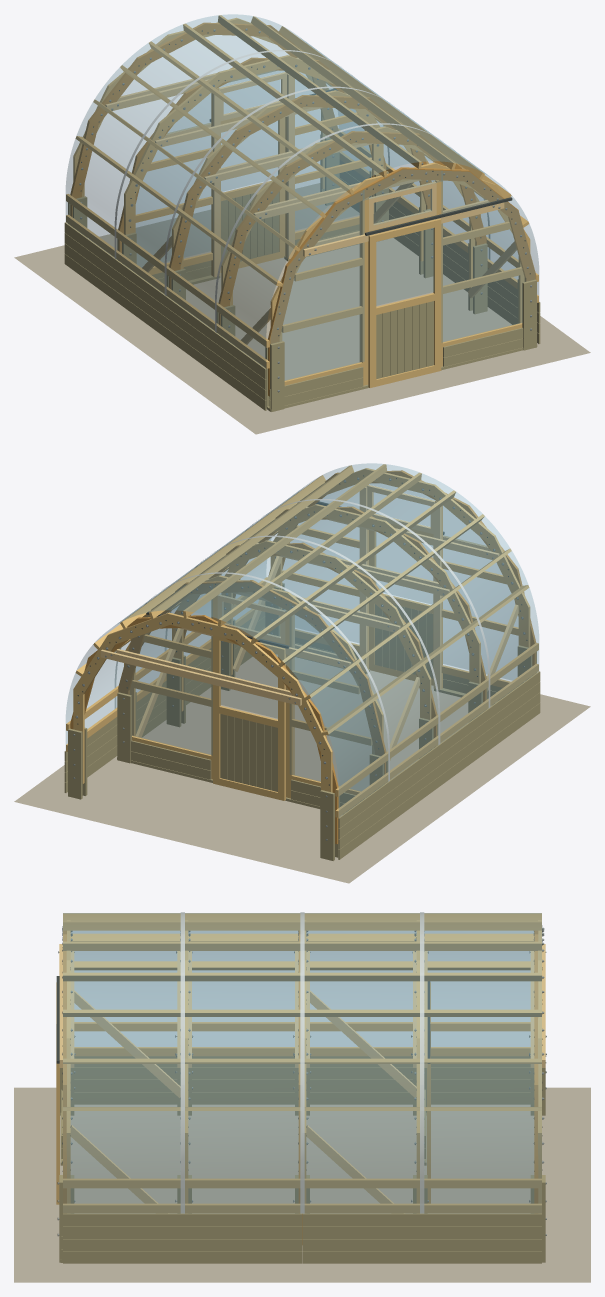
The model's file is greenhouse.glb.
3 renders of one model, top to bottom at view 1: azimuth 30°, elevation 25°; view 2: azimuth 150°, elevation 25°; view 3: azimuth 270°, elevation 25°, orthographic. The views are drawn at different scales.
Visible parts, largest first — view 1: greenhouse; view 2: greenhouse; view 3: greenhouse.
Part boxes in pixels (<box>): greenhouse: <box>14,14,590,434</box>; greenhouse: <box>14,463,590,883</box>; greenhouse: <box>14,912,590,1282</box>.
Size of the model in its own units: 4.7 by 2.87 by 5.88.
